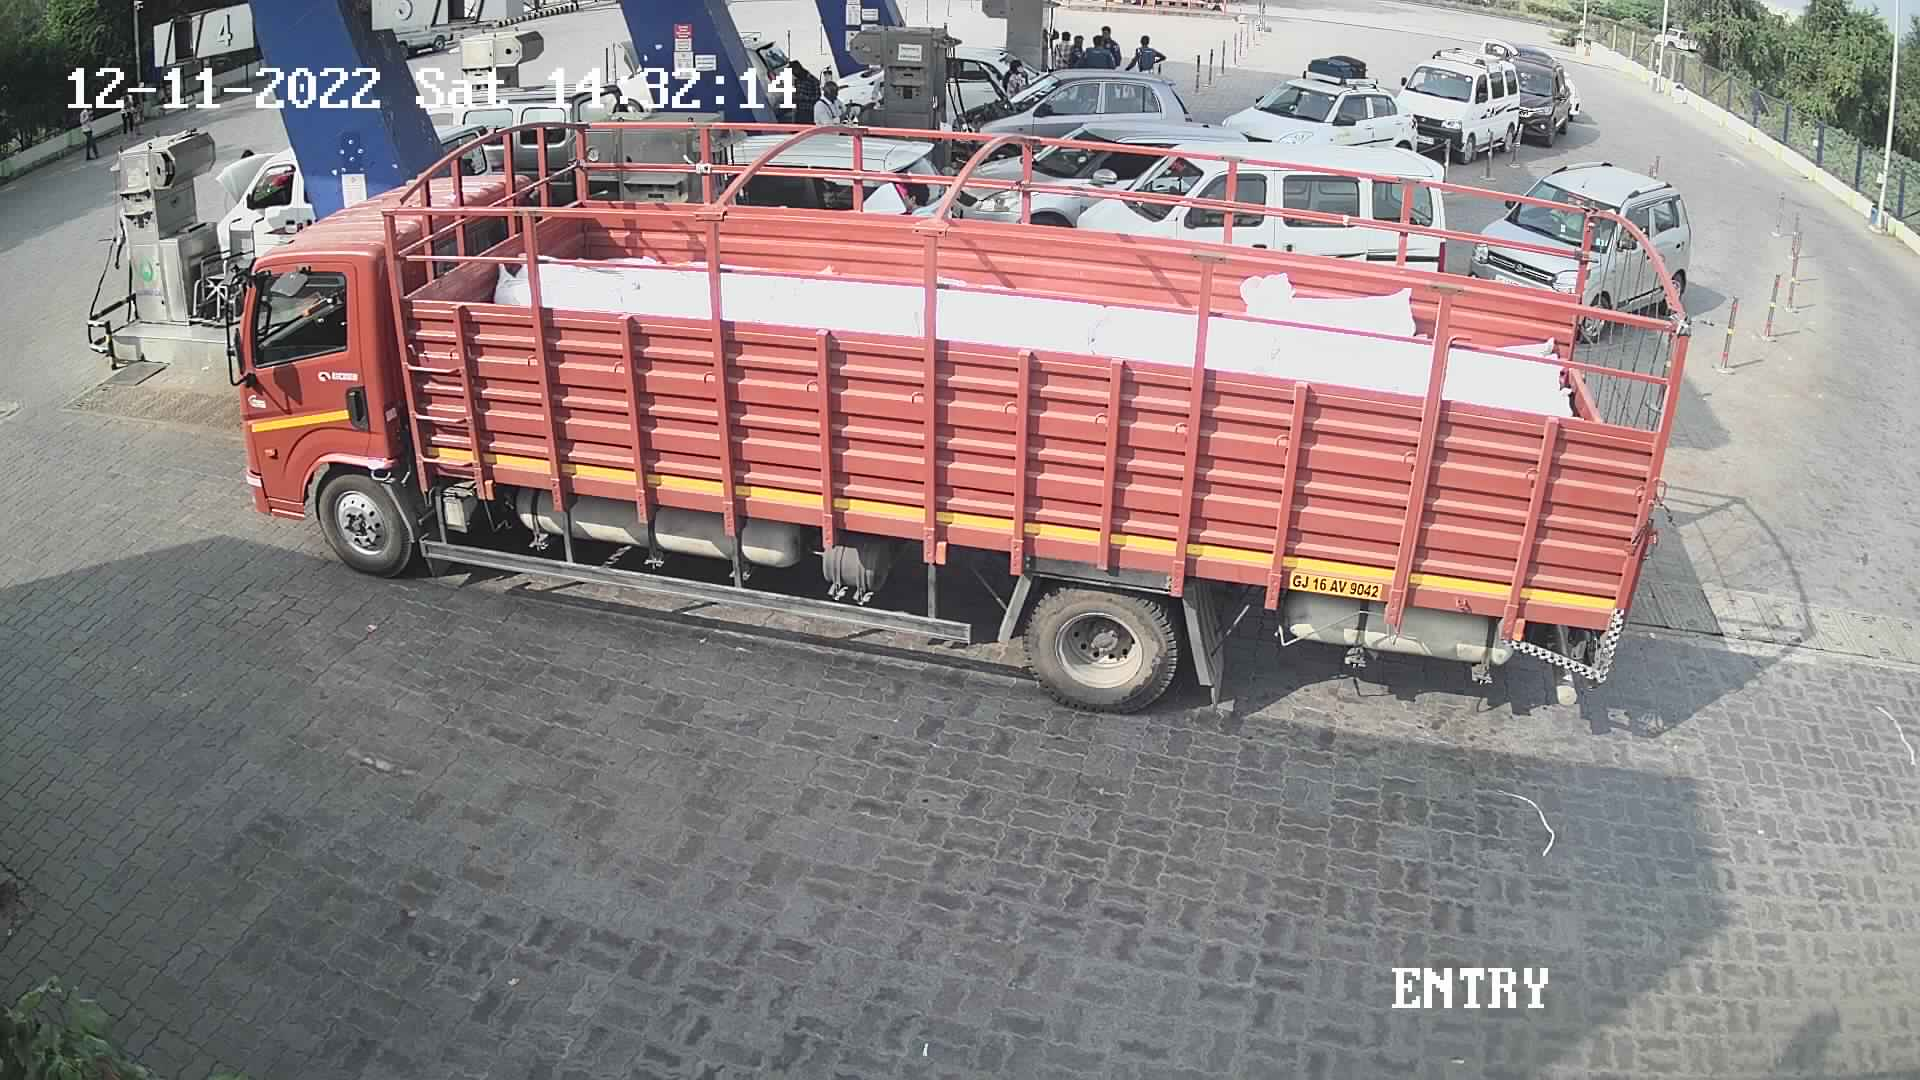Car: (1065, 135, 1452, 293), (1462, 154, 1701, 351), (944, 116, 1258, 236), (709, 113, 963, 233), (425, 66, 634, 204), (944, 57, 1196, 171), (199, 132, 330, 320), (1211, 47, 1429, 156), (1386, 38, 1532, 167), (943, 32, 1052, 133), (717, 11, 820, 116), (1503, 36, 1586, 149)
HMV: (211, 80, 1695, 740)
